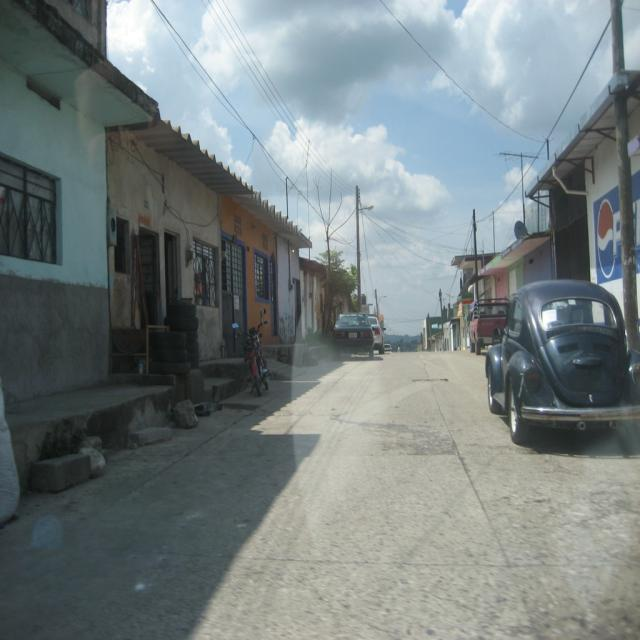car: (332, 311, 373, 360)
